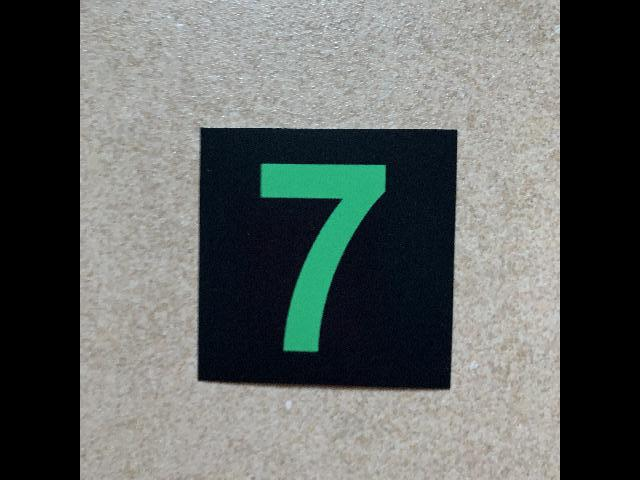seven: (198, 127, 460, 392)
